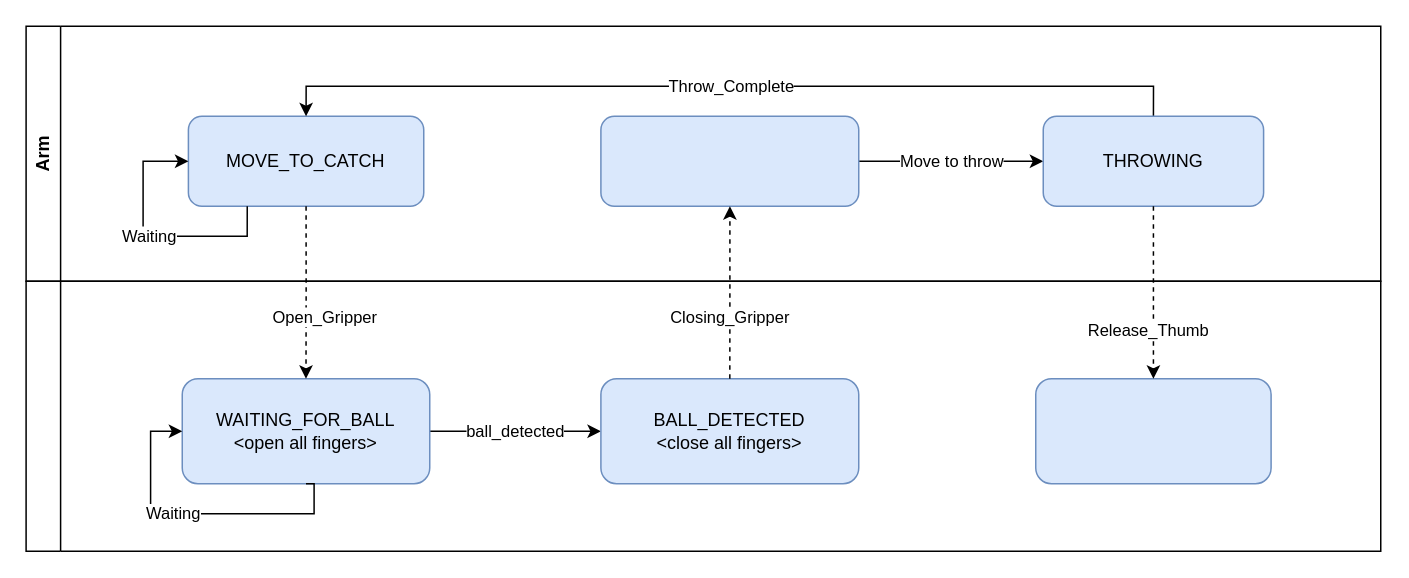
This 1409x578 diagram has some shape labels left out. The box of each missing label's shape, as (x1, y1, x2, y2) in pixels:
BALL_CAUGHT: (599, 115, 859, 206)
Gripper: (25, 280, 1381, 551)
PREPARE_THROW <release thumb>: (1034, 377, 1271, 484)
